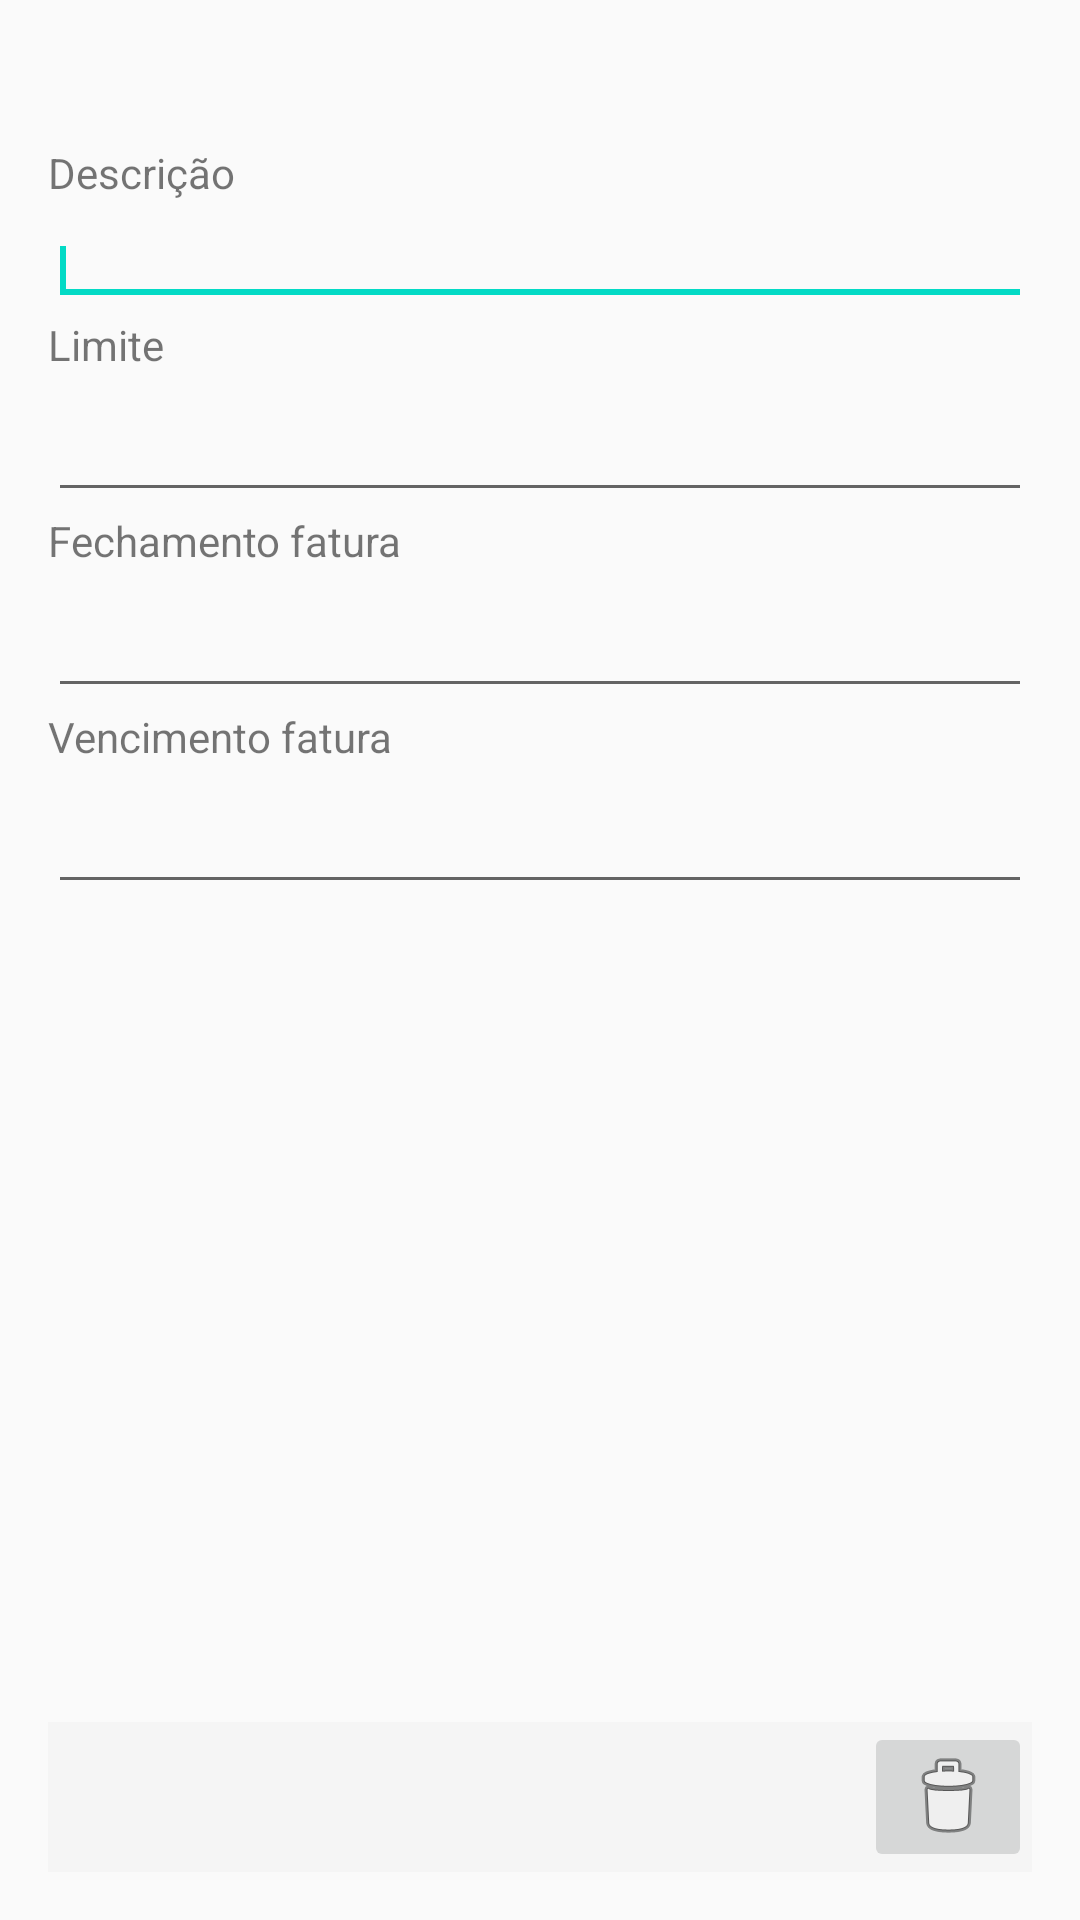

Icons on this 1080px×1920px Android screen, each with its box as {"left": x1, "top": y1, "right": x2, "bottom": y2}:
delete: {"left": 876, "top": 1740, "right": 1020, "bottom": 1854}
